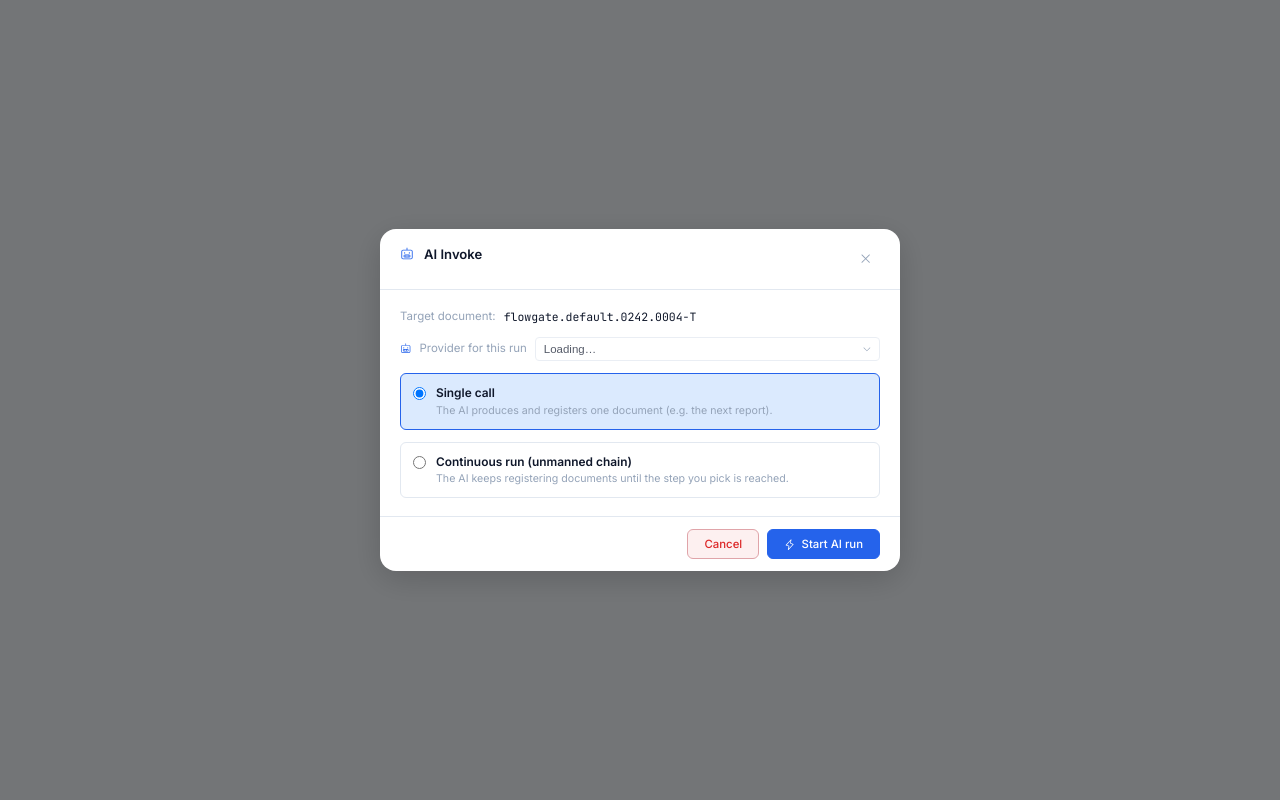
it: AiInvokeDialog continuous target › blocks the start when every step is already done
The image size is (1280, 800).
Click the 2nd radio button: {"x": 420, "y": 462} x1=413 y1=456 x2=426 y2=469
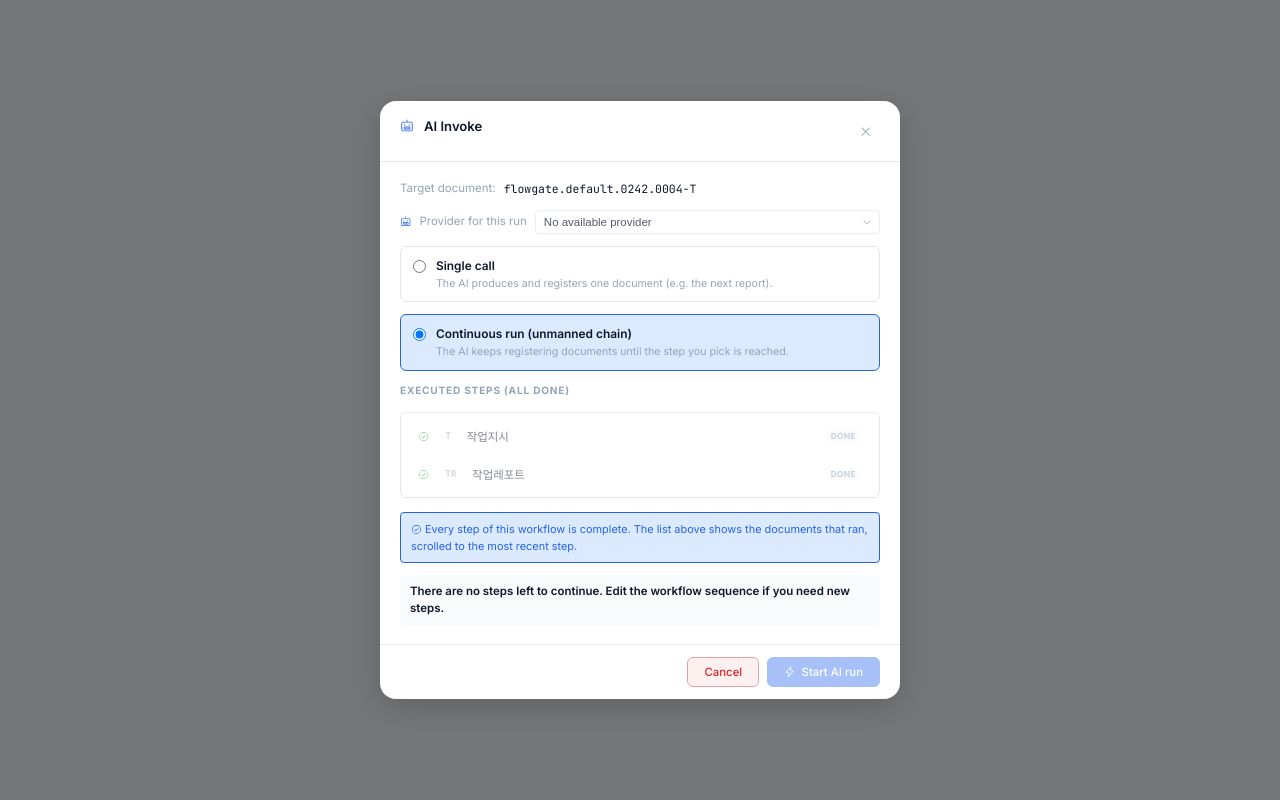
Result: the button "Start AI run" is disabled at x1=767 y1=656 x2=880 y2=686
Result: the number of buttons with class "wsp-step--done" is 2 at x1=407 y1=419 x2=873 y2=453; x1=407 y1=457 x2=873 y2=491
